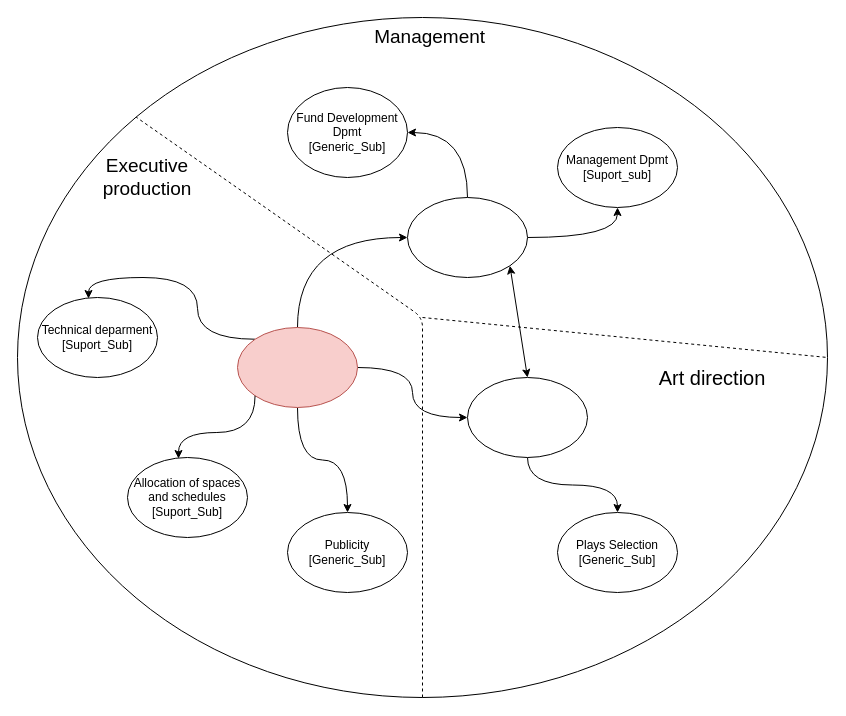
Image size: 846x716. Some labels were removed from this diagram. The shapes that lost their labels are listed below. From the top down, each one's centre as x and y in pixels, then its label:
[467,237]: Accounting Dpmt [Core_Sub]
[297,367]: Drama Festival [Core_Sub]
[527,417]: Curatorship [Core_Sub]
